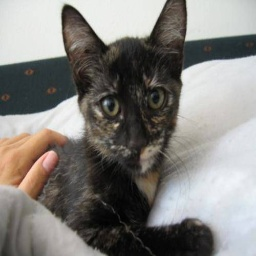cat: (29, 2, 212, 256)
